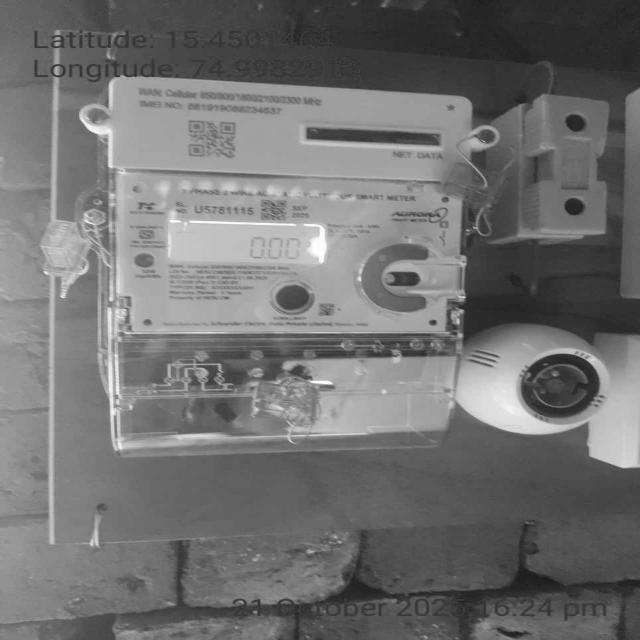meter: (109, 77, 478, 337)
